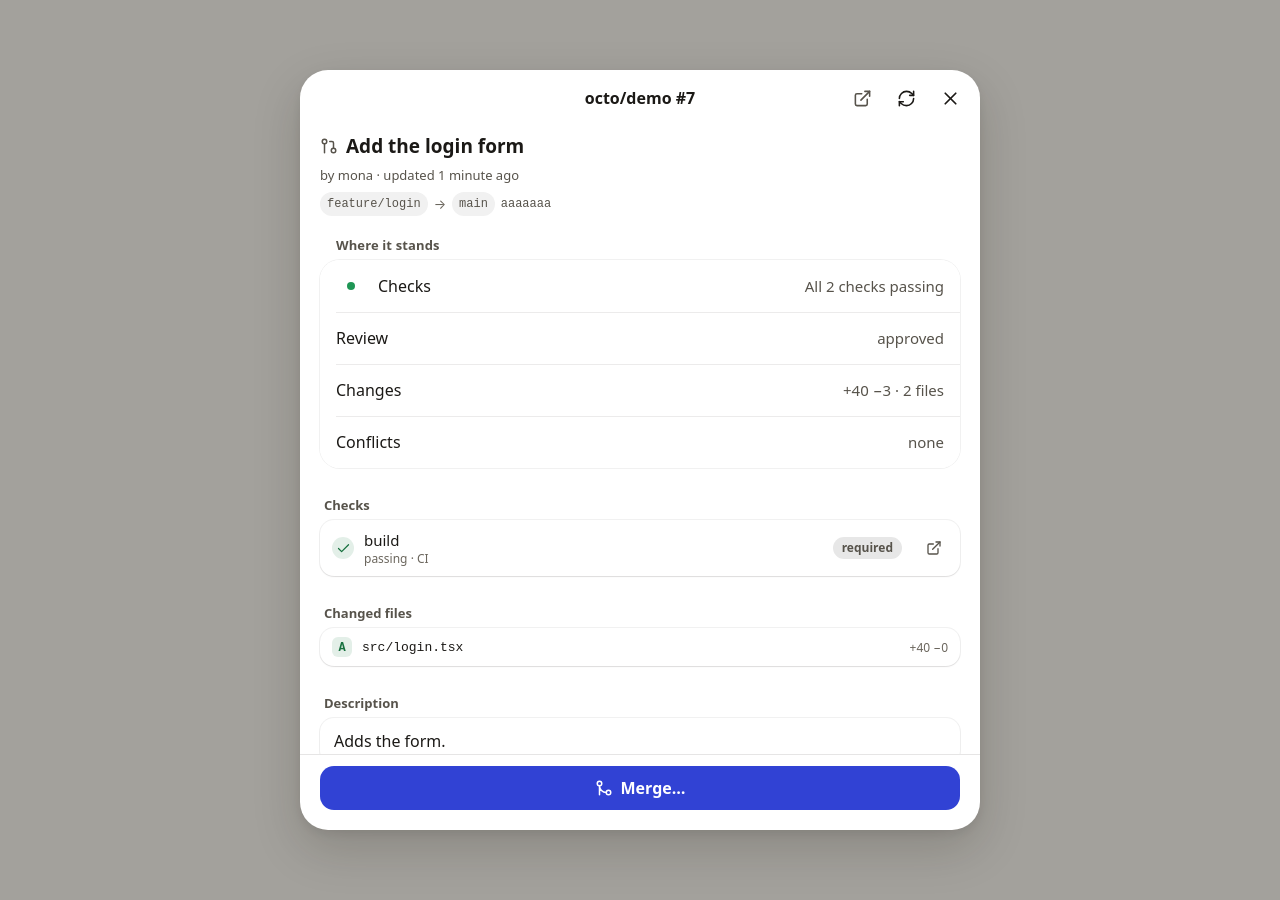
Test: the pull-request sheet › shows a refusal as the server worded it, with a reload and no way to merge anyway
Click the button "Merge…".
click(640, 788)  # box [320,766,960,810]
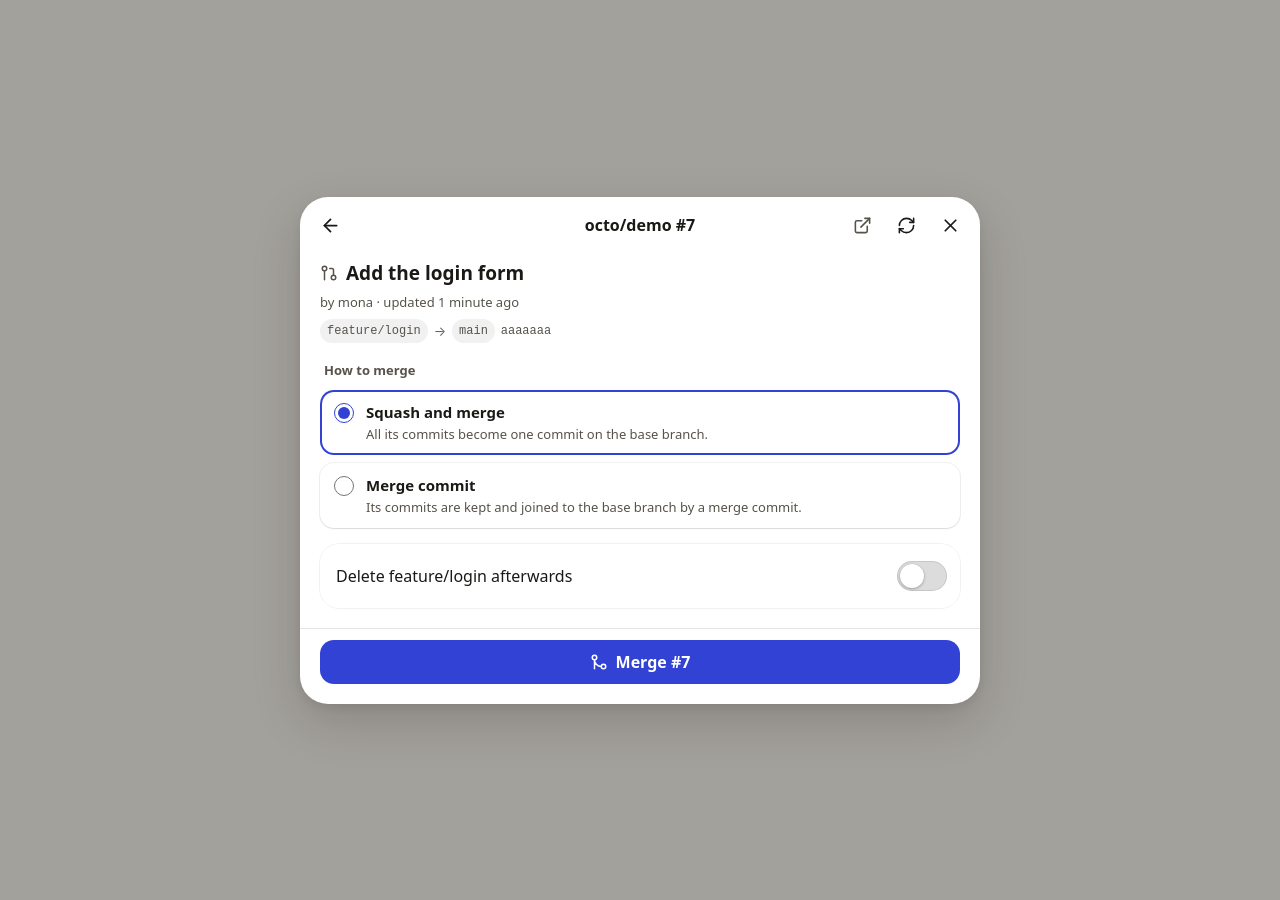
Click the button "Merge #7".
click(640, 662)  # box [320,640,960,684]
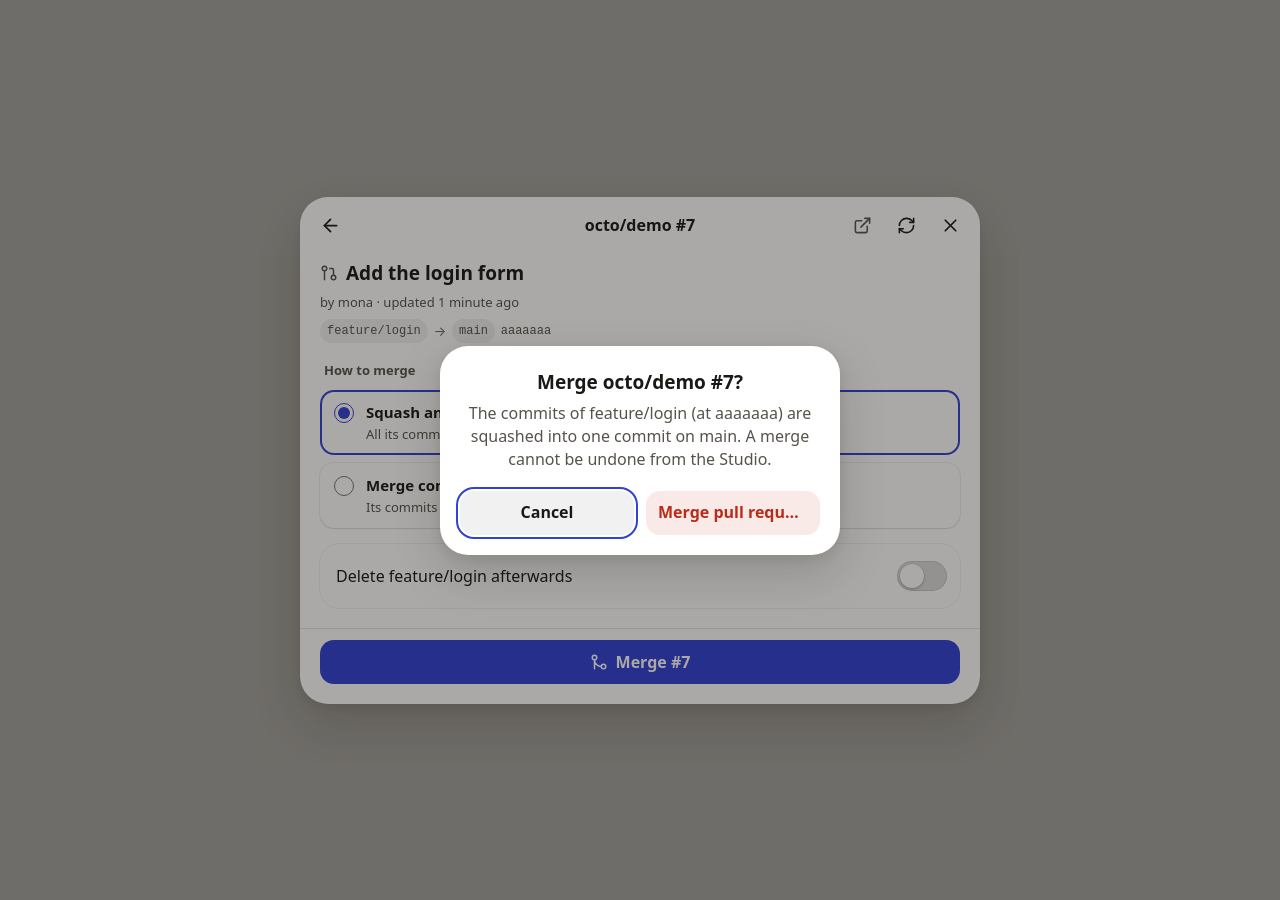
Click the button "Merge pull request #7".
click(733, 512)  # box [646,490,820,534]
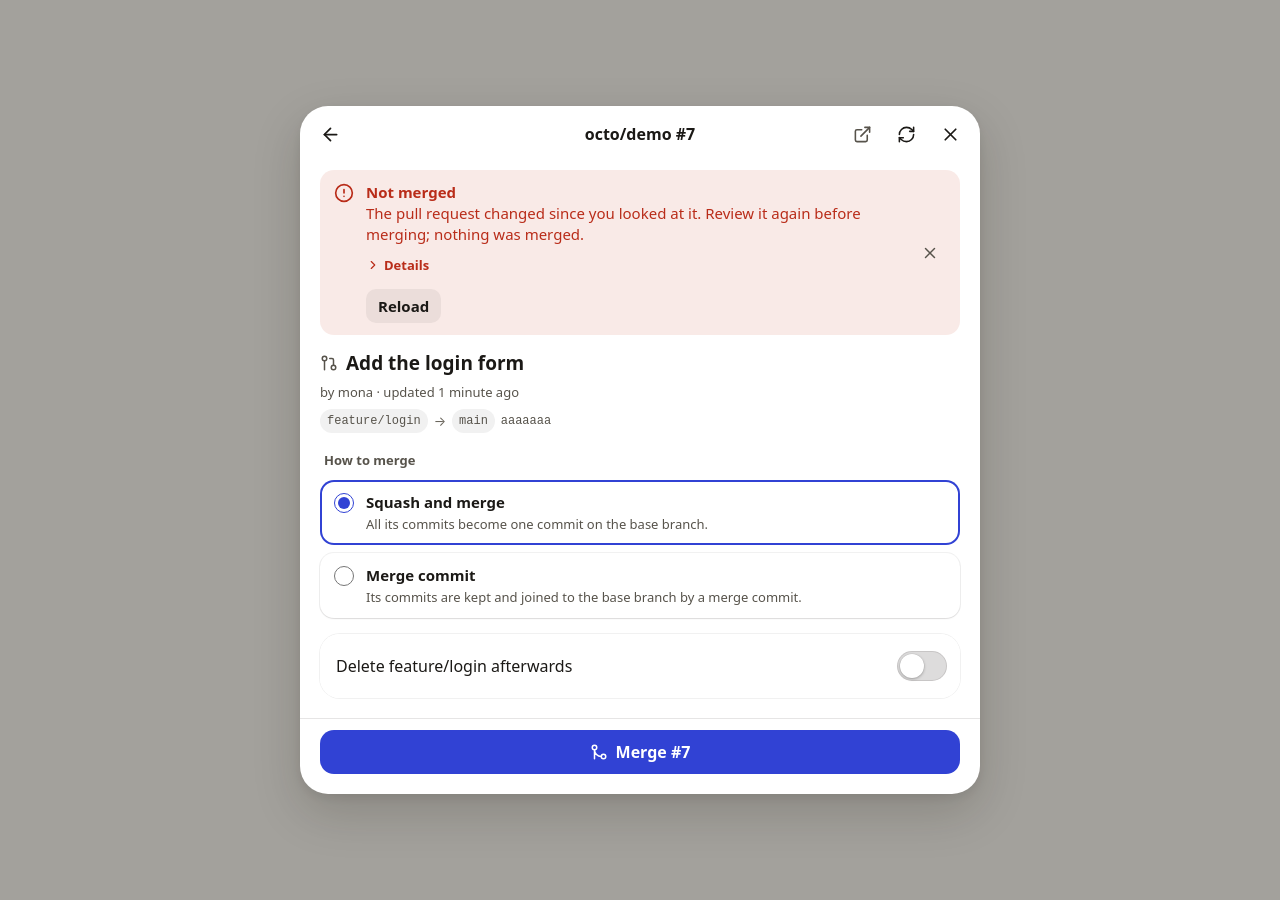
Expected: the text "Not merged" is shown, [366,182,456,202]
Expected: the button "Reload" is shown, [366,289,441,323]
